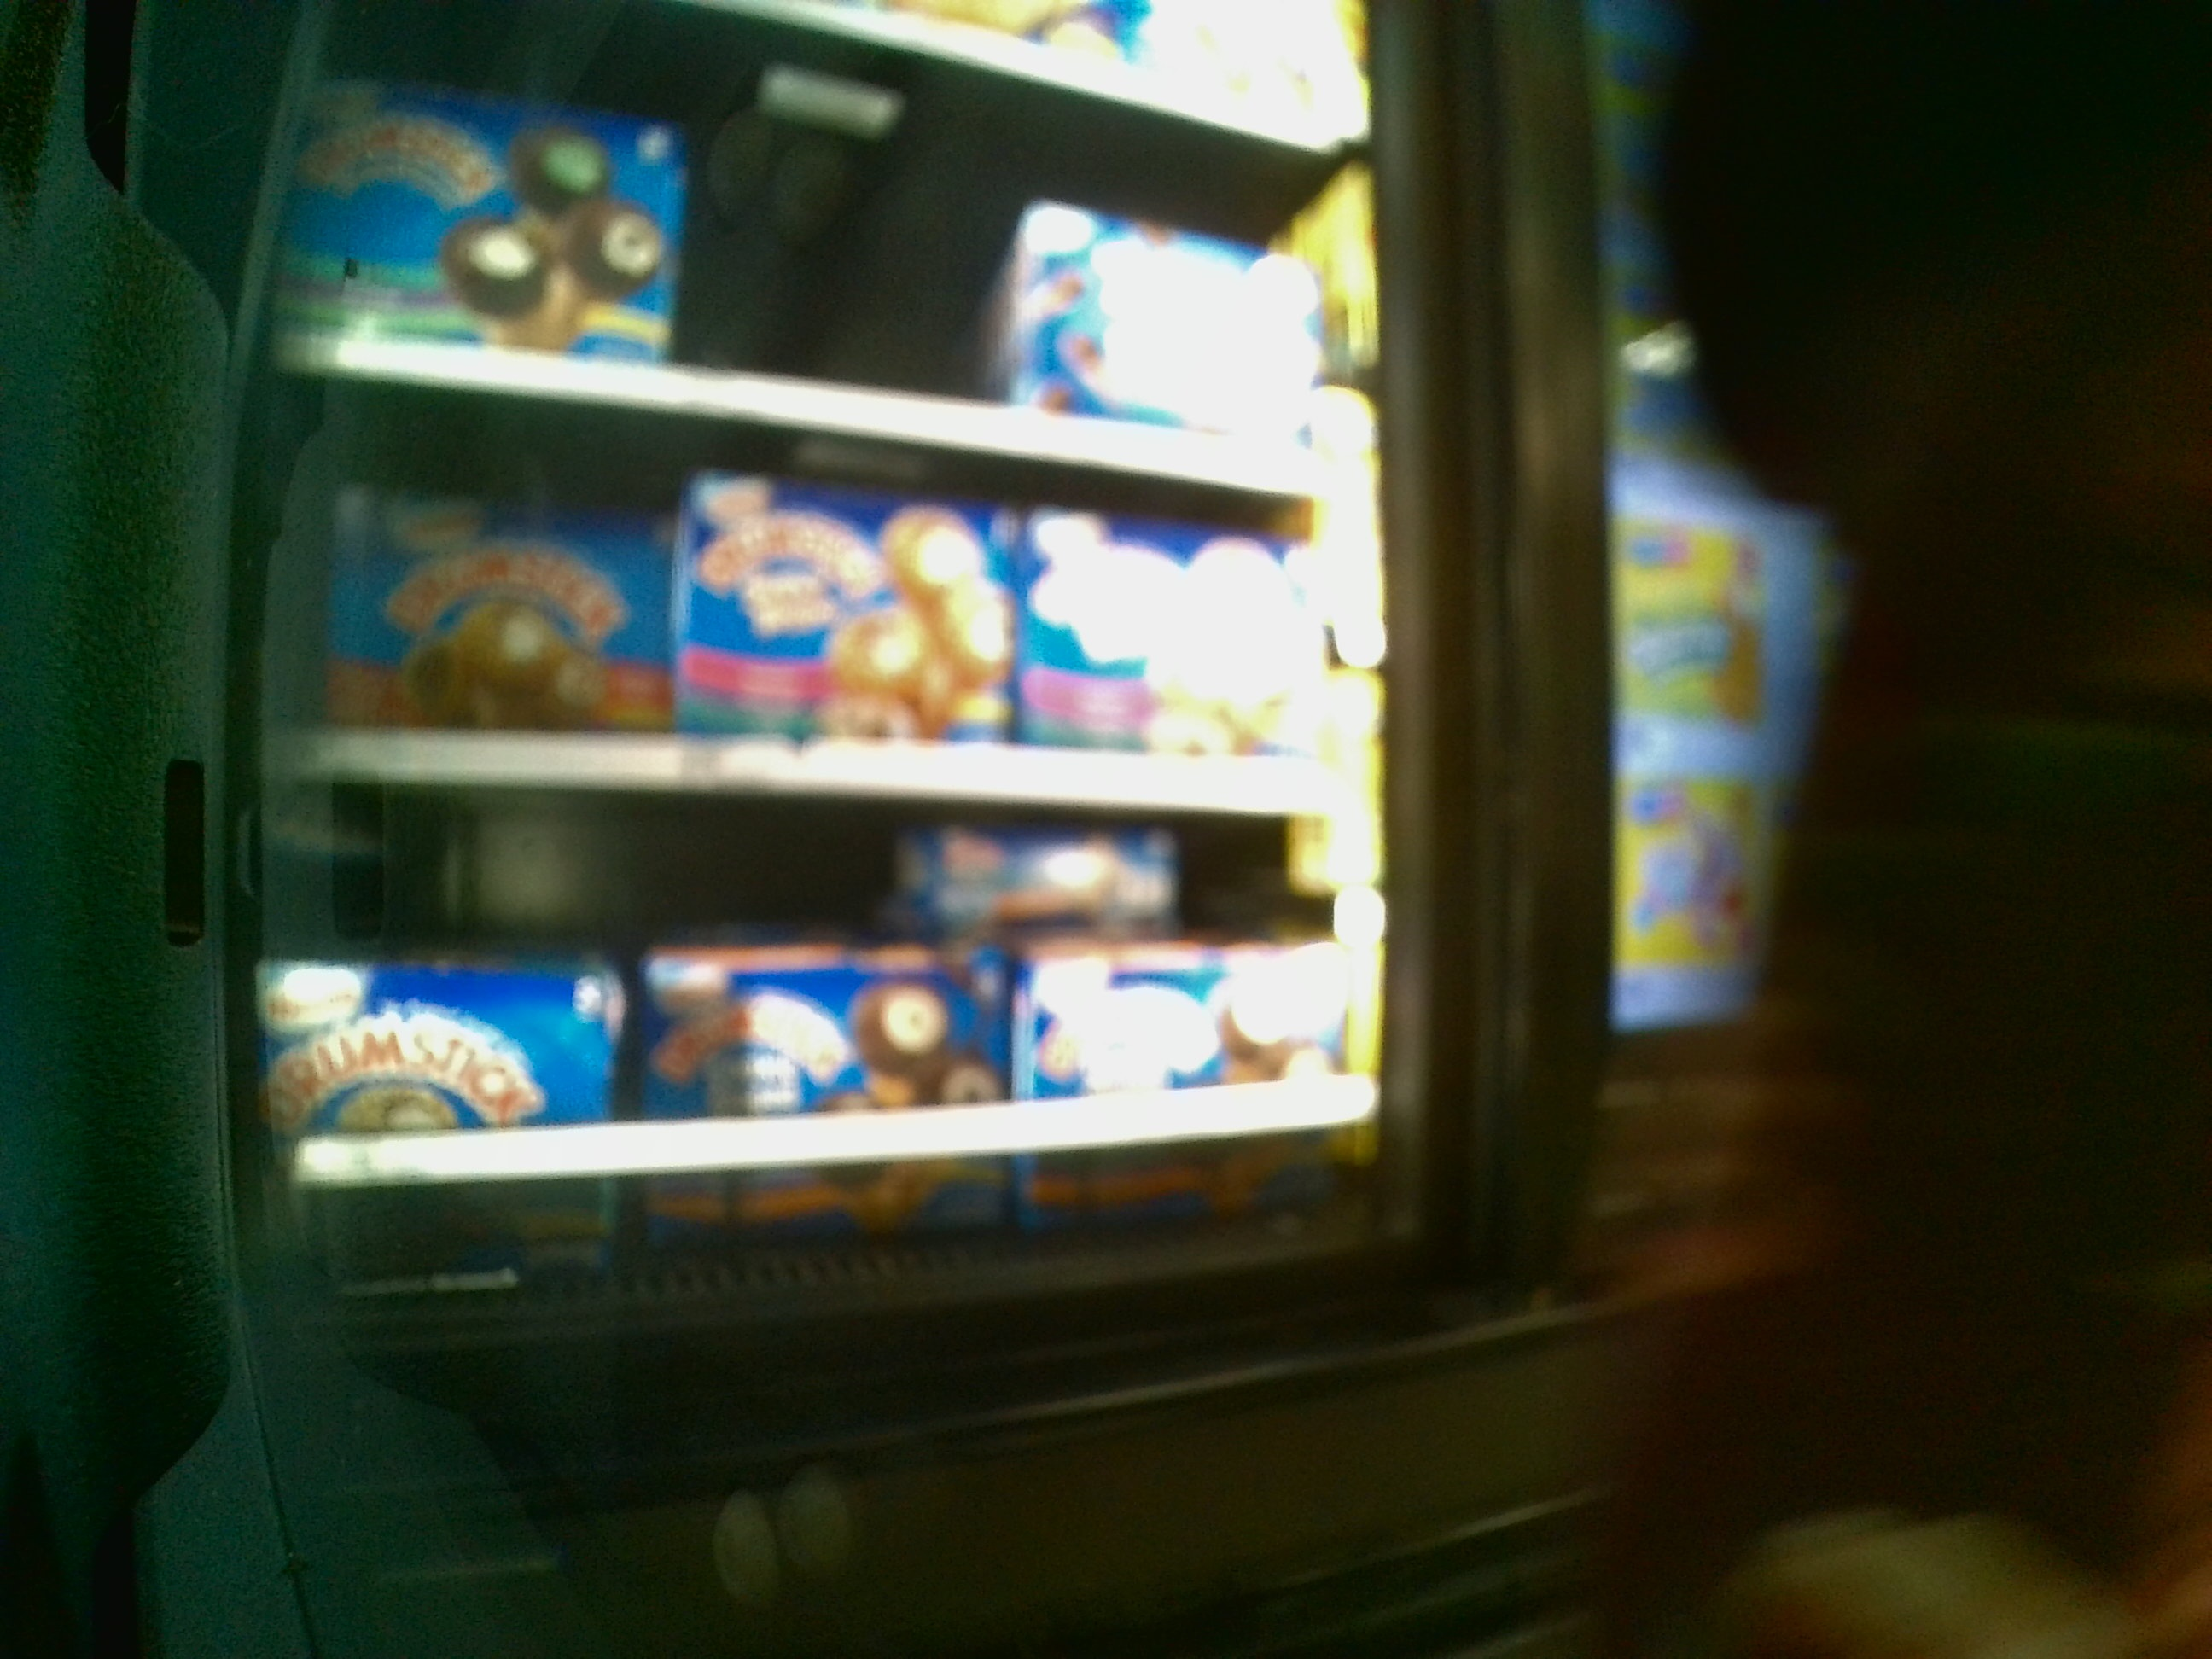shelf: (286, 812, 1367, 1267), (282, 458, 1345, 802)
